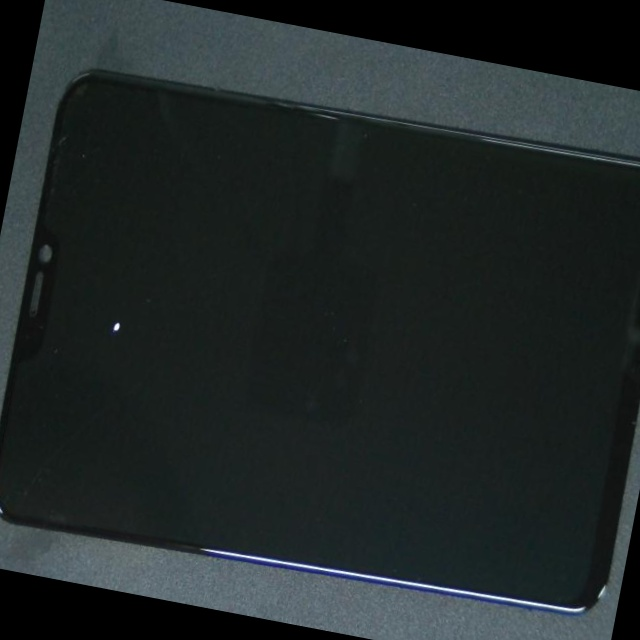stain: (36, 79, 203, 457)
